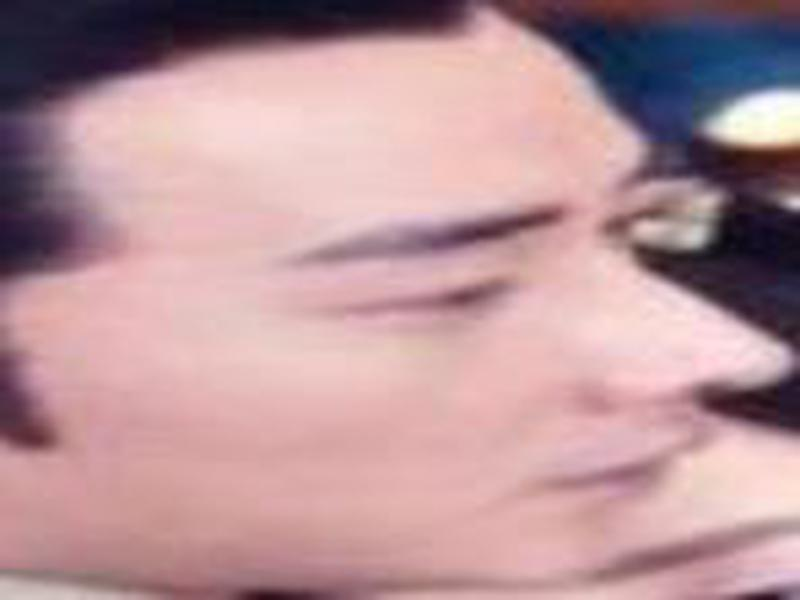without_mask: (10, 10, 795, 600)
